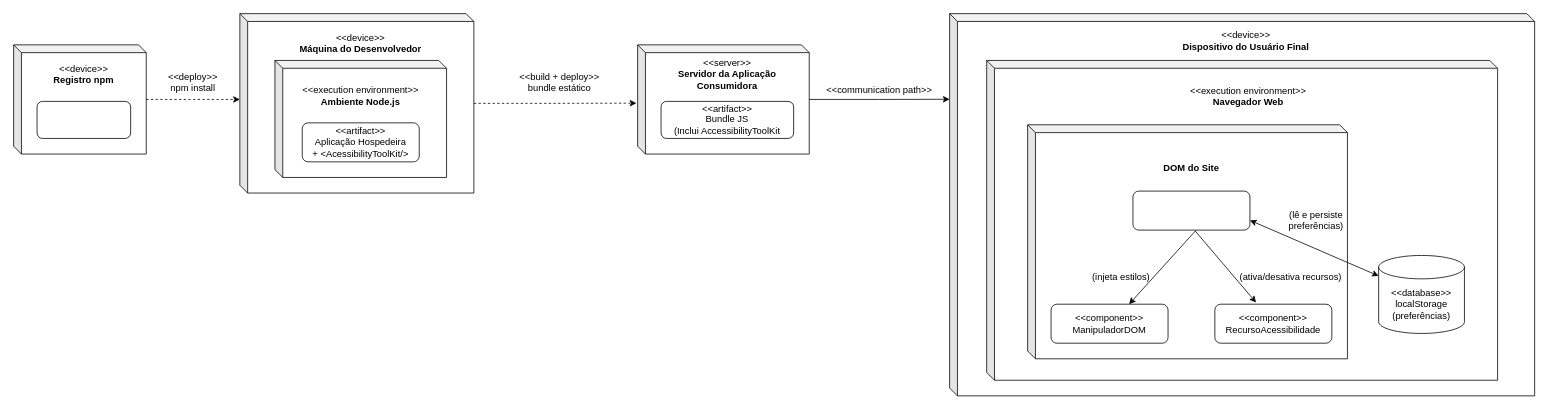
Some shapes in this 1548 by 410 pixel diagram are drawn without their labels. Here are the shapes that lost their labels. From the top down, the box of each, then its label:
(36, 101, 131, 138): <<artifact>> acessibilidade-ja (pacote npm)
(1132, 190, 1250, 230): <<component>> ControladorWidget
